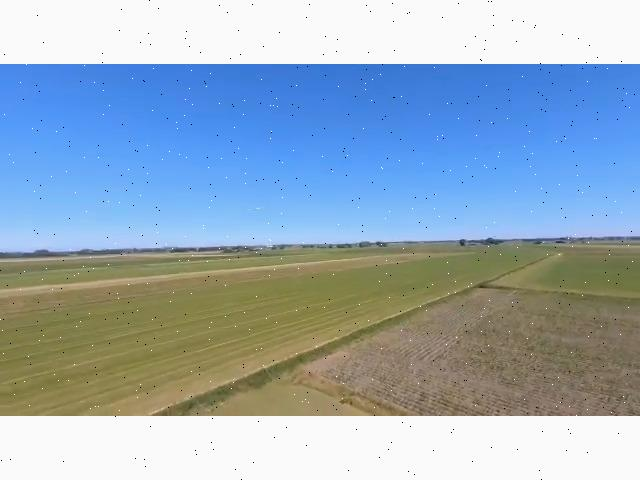Anti-Drone: (240, 202, 272, 223)
